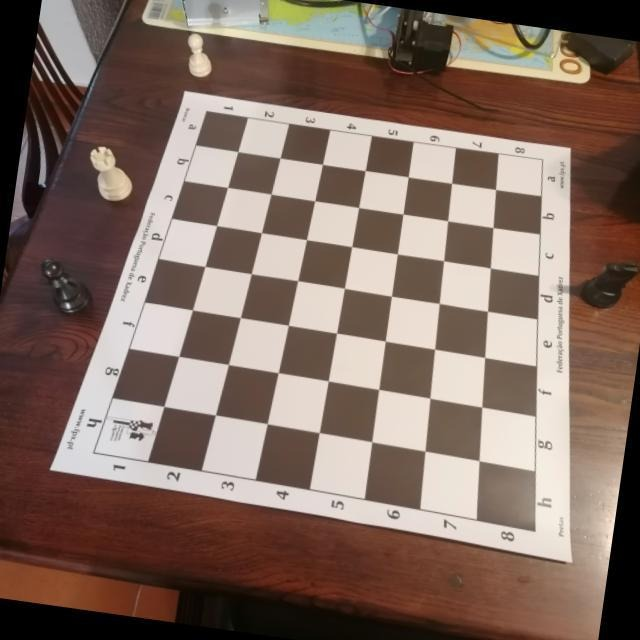black-bishop: (33, 255, 96, 317)
black-knight: (579, 256, 640, 315)
white-pawn: (182, 31, 217, 80)
white-rook: (83, 143, 139, 204)
